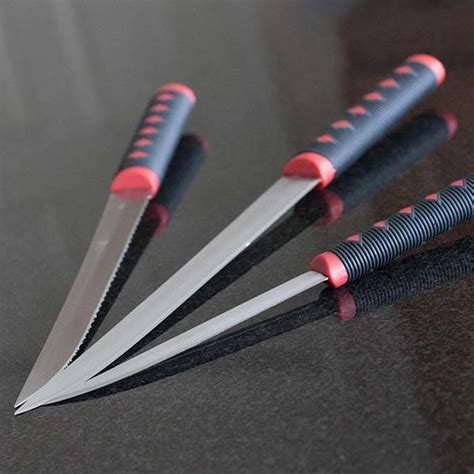knife: (13, 53, 444, 418), (39, 175, 474, 403), (12, 78, 195, 409)
